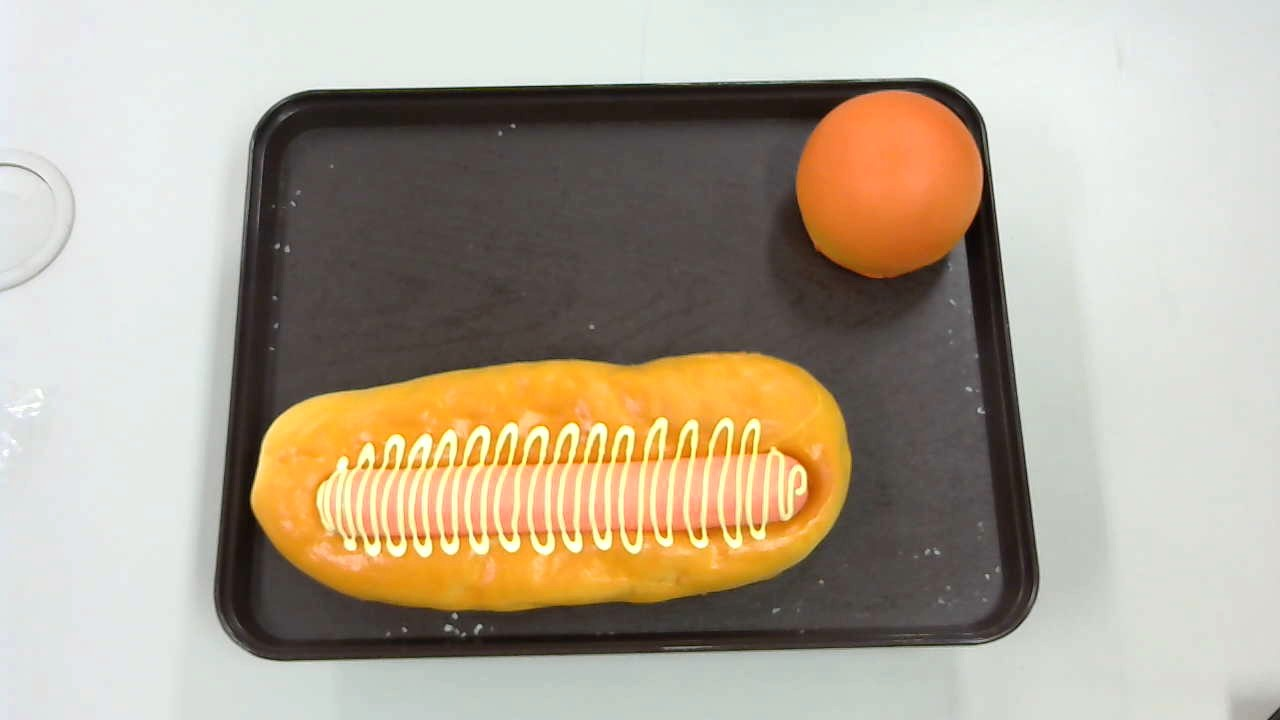bun: (793, 89, 984, 279)
hot dog: (249, 351, 852, 614)
